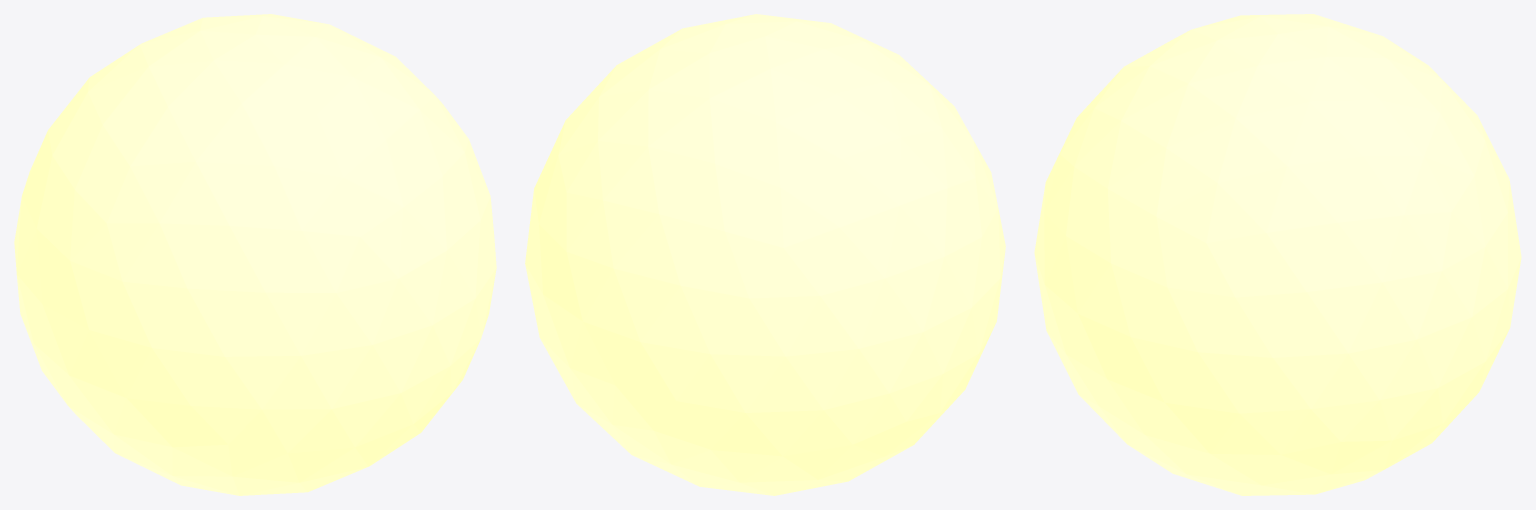
Rendered from sun.glb.
3 views of the same model, side by side, from view 1: azimuth 30°, elevation 25°; view 2: azimuth 150°, elevation 25°; view 3: azimuth 270°, elevation 25° (orthographic).
Visible parts, largest first — view 1: Sun; view 2: Sun; view 3: Sun.
Part boxes in pixels (bbox=[...]): Sun: bbox=[14, 14, 496, 495]; Sun: bbox=[525, 14, 1005, 495]; Sun: bbox=[1034, 14, 1521, 495].
Bounding box in the file's own units: 7.7 × 7.7 × 7.7.
